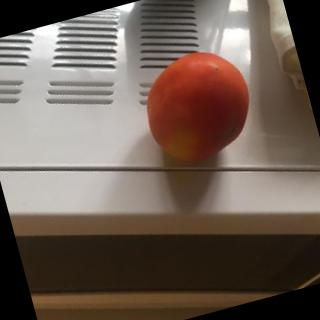Tomat: (125, 34, 275, 184)
